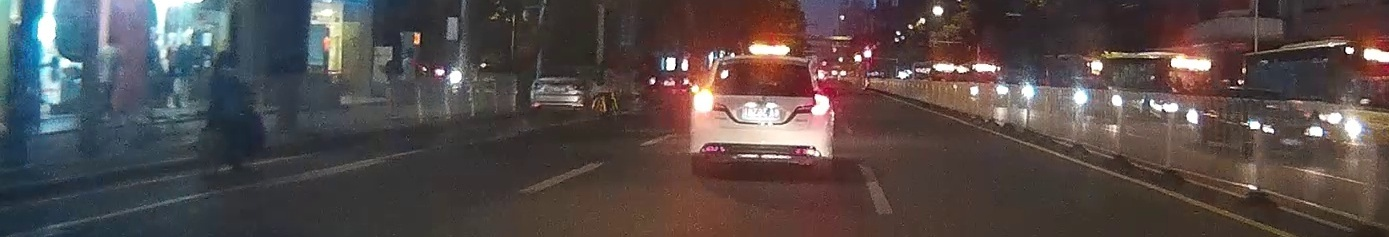L_light: (693, 90, 714, 113)
R_light: (811, 94, 831, 116)
T_light: (754, 63, 778, 67)
night-no: (689, 54, 835, 176)
